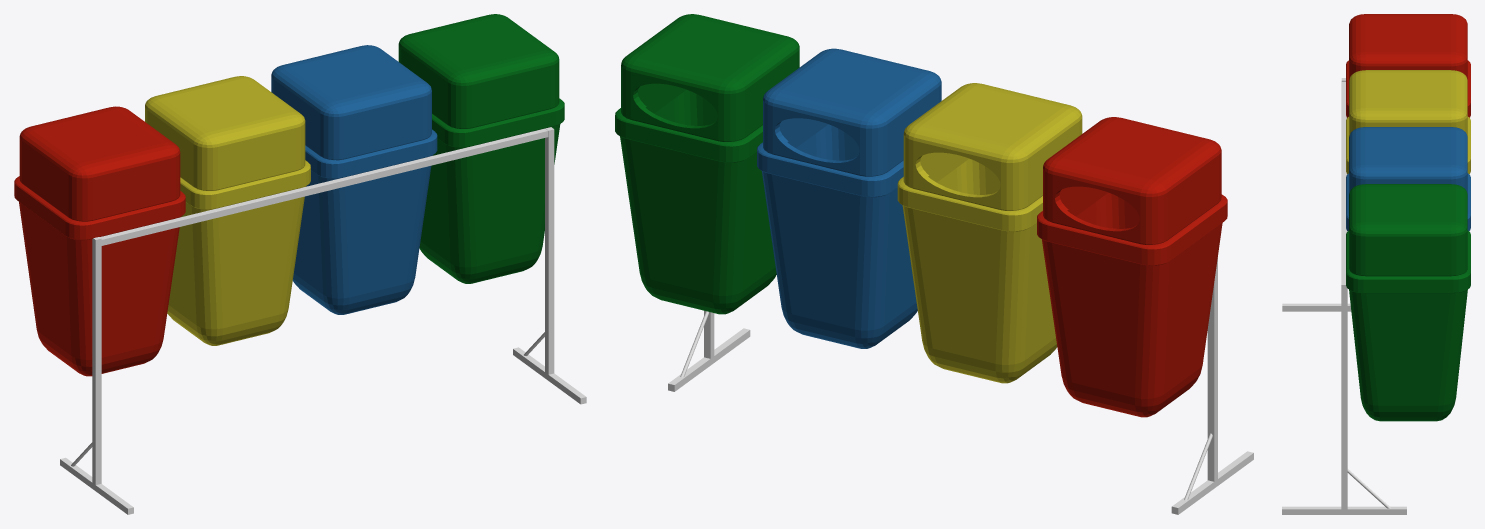
File: reciclavel.glb
The picture shows the model from 3 angles, left to right: view 1: azimuth 30°, elevation 25°; view 2: azimuth 150°, elevation 25°; view 3: azimuth 270°, elevation 25°; orthographic projection. The views are drawn at different scales.
Parts seen in each view (by area): view 1: Cube.019, Cube.011, Cube.015, Cube, Cube.017, Cube.002, Cube.009, Cube.013, Cube.020, Cube.018, Cube.001, Cube.010 (+5 smaller); view 2: Cube.019, Cube, Cube.011, Cube.015, Cube.017, Cube.009, Cube.002, Cube.013, Cube.018, Cube.001, Cube.014, Cube.010 (+3 smaller); view 3: Cube, Cube.002, Cube.009, Cube.013, Cube.017, Cube.001, Cube.004, Cube.005, Cube.020, Cube.006, Cube.010, Cube.014 (+1 smaller).
Boxes of the visible parts, x1,y1,x2,y2 form: Cube.019: (19,202,180,376); Cube.011: (292,155,432,314); Cube.015: (167,186,306,345); Cube: (419,124,560,283); Cube.017: (19,106,180,221); Cube.002: (398,14,559,128); Cube.009: (271,45,431,160); Cube.013: (145,76,305,190); Cube.020: (100,128,548,245); Cube.018: (14,176,185,240); Cube.001: (432,98,564,147); Cube.010: (305,129,437,178); Cube.019: (1042,186,1222,417); Cube: (620,83,776,314); Cube.011: (762,118,917,348); Cube.015: (902,152,1057,383); Cube.017: (1043,117,1221,244); Cube.009: (763,48,941,176); Cube.002: (621,14,799,141); Cube.013: (903,83,1082,210); Cube.018: (1037,187,1227,265); Cube.001: (615,84,762,162); Cube.014: (897,153,1042,231); Cube.010: (757,120,903,197); Cube: (1349,290,1467,421); Cube.002: (1349,184,1467,276); Cube.009: (1349,127,1467,193); Cube.013: (1349,70,1467,136); Cube.017: (1349,14,1467,79); Cube.001: (1346,230,1470,293); Cube.004: (1341,282,1347,510); Cube.005: (1282,506,1406,514); Cube.020: (1341,82,1347,282); Cube.006: (1282,303,1351,311); Cube.010: (1346,173,1470,230); Cube.014: (1346,116,1470,174).
Size of the model in its own units: 8.45 by 5.18 by 3.02.
